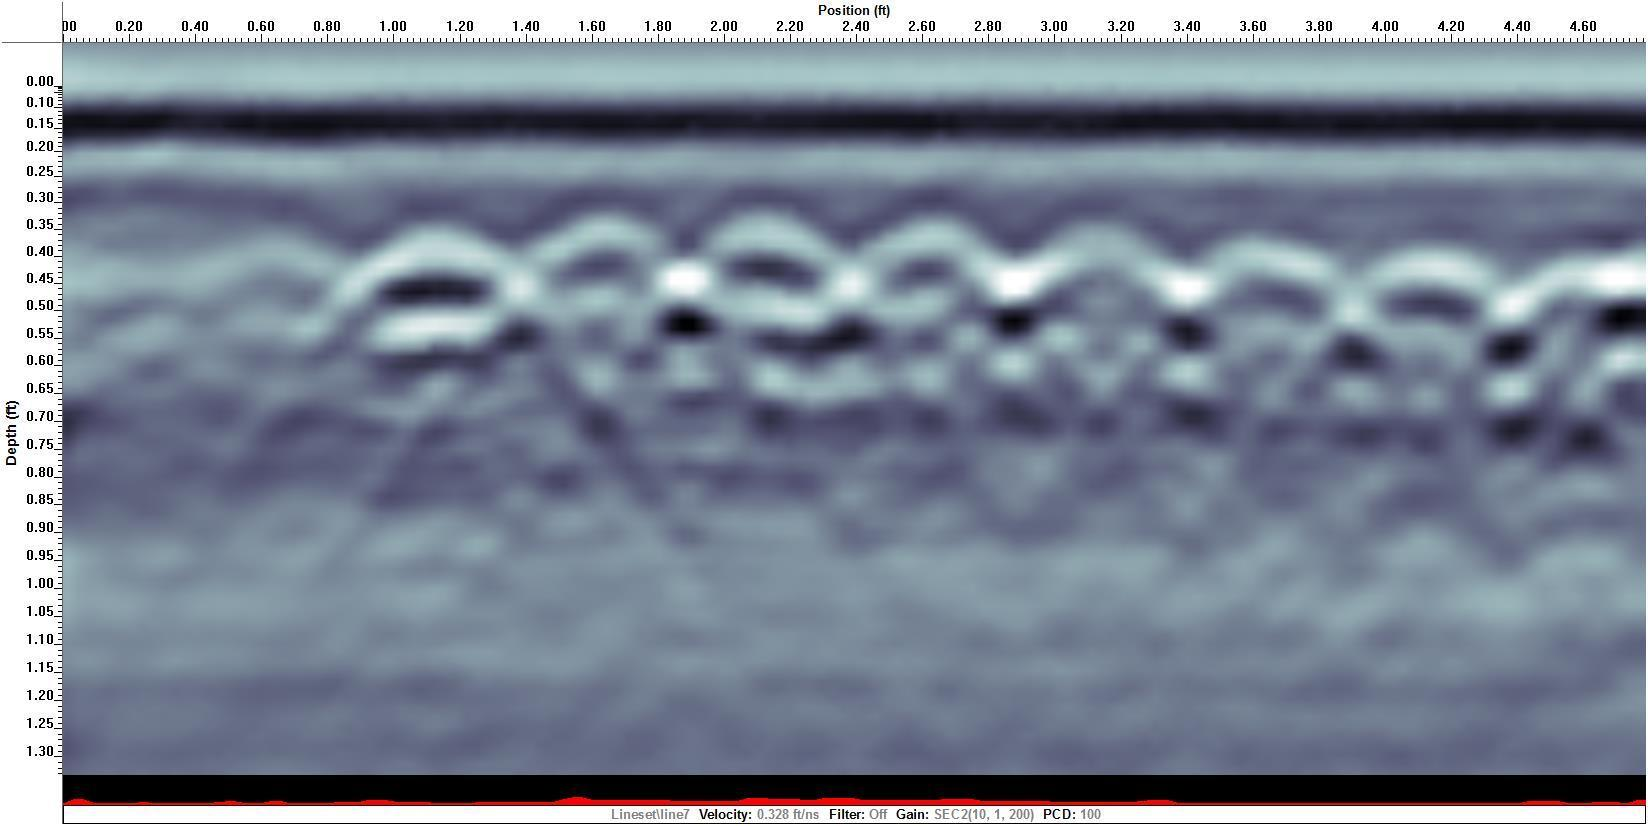hyperbola: (371, 210, 749, 478), (249, 228, 627, 496), (576, 201, 954, 469), (731, 219, 1109, 487), (901, 222, 1279, 490), (1065, 242, 1443, 510), (1218, 240, 1596, 508)
